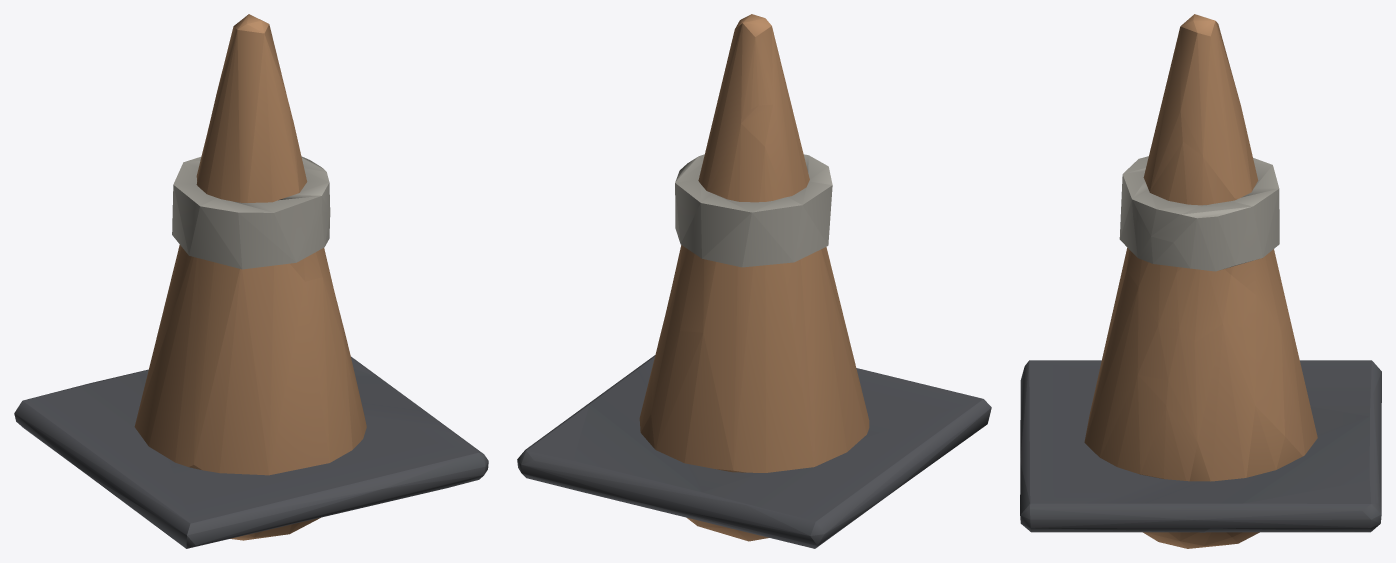
The model's file is plot.glb.
3 views of the same model, side by side, from view 1: azimuth 30°, elevation 25°; view 2: azimuth 150°, elevation 25°; view 3: azimuth 270°, elevation 25° (orthographic).
Visible parts, largest first — view 1: plot; view 2: plot; view 3: plot.
Boxes of the visible parts, x1,y1,x2,y2 form: plot: (14,14,488,548); plot: (517,14,991,548); plot: (1020,14,1381,548).
Bounding box in the file's own units: 0.3396 × 0.5371 × 0.339.
